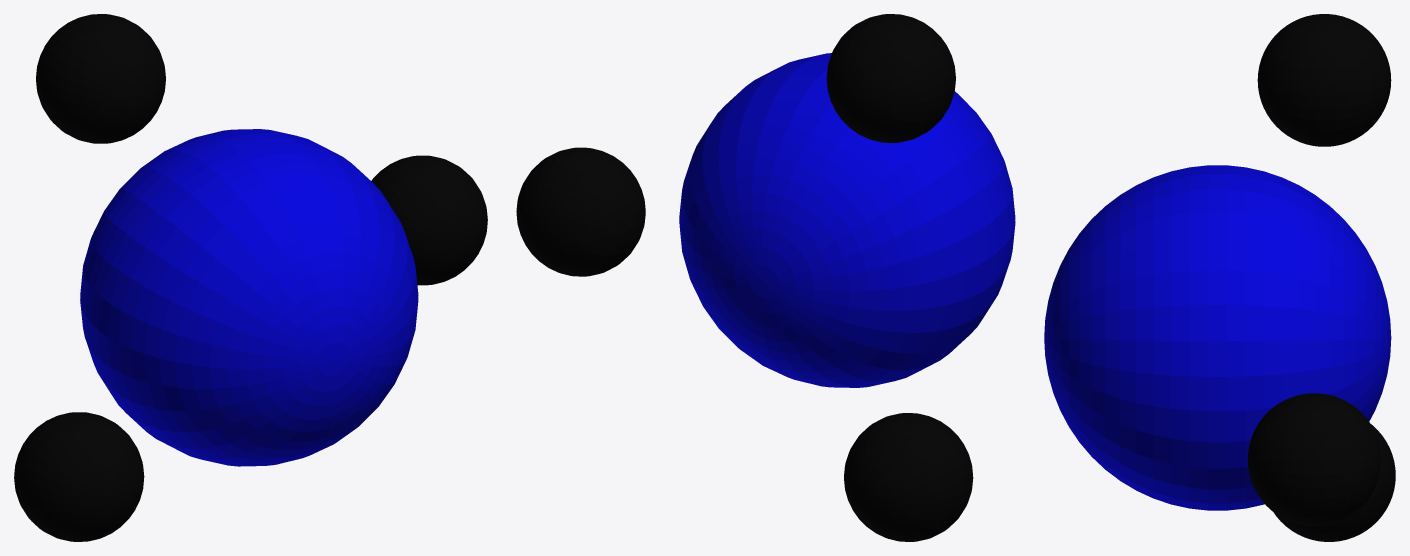
File: Ammonia.glb
3 views of the same model, side by side, from view 1: azimuth 30°, elevation 25°; view 2: azimuth 150°, elevation 25°; view 3: azimuth 270°, elevation 25° (orthographic). The views are drawn at different scales.
Visible parts, largest first — view 1: world; view 2: world; view 3: world.
Part boxes in pixels (x1,y1,x2,y2): world: [14, 14, 487, 541]; world: [516, 14, 1015, 541]; world: [1044, 14, 1395, 541].
Bounding box in the file's own units: 1.99 × 2.17 × 1.32.
